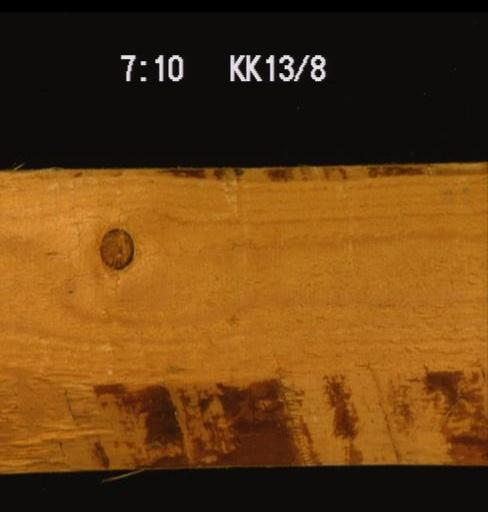wave: (0, 346, 486, 465), (165, 161, 486, 190)
